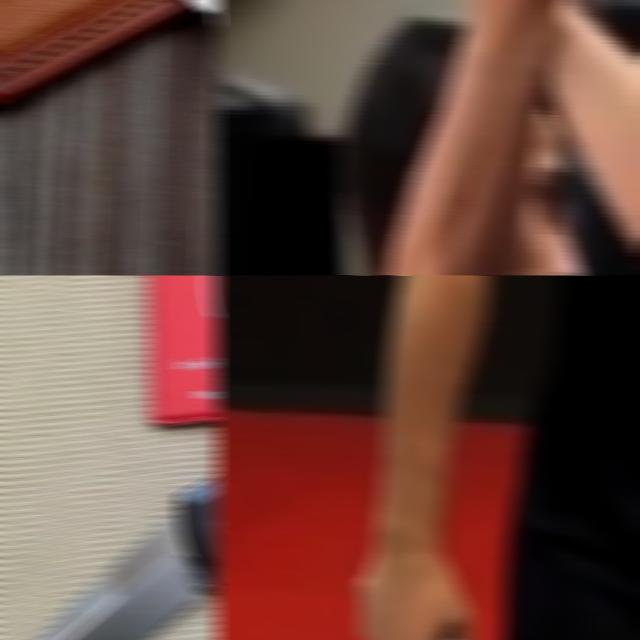Knife: (33, 473, 220, 640)
Knife_Handle: (356, 560, 558, 640)
